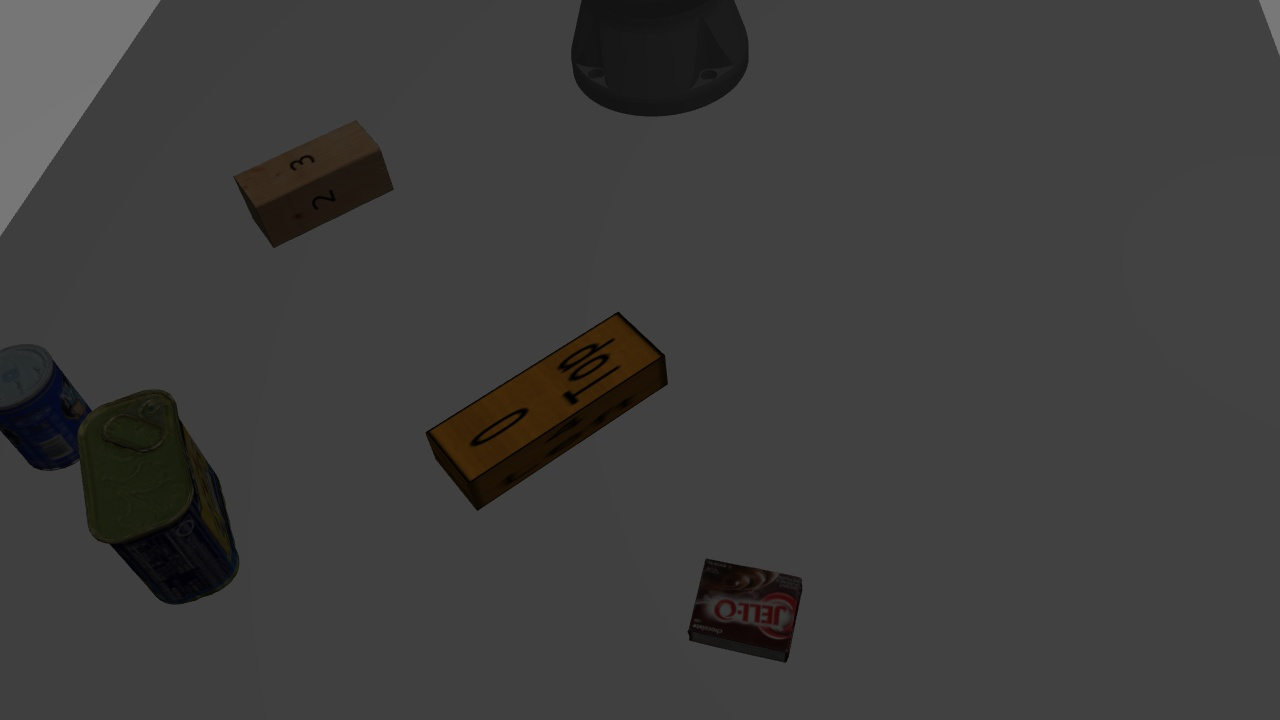jenga: (421, 304, 671, 516)
master_chef_can: (5, 331, 94, 491)
potted_meat_can: (77, 387, 247, 611)
pudding_box: (682, 550, 805, 665)
wood_block: (215, 117, 397, 250)
